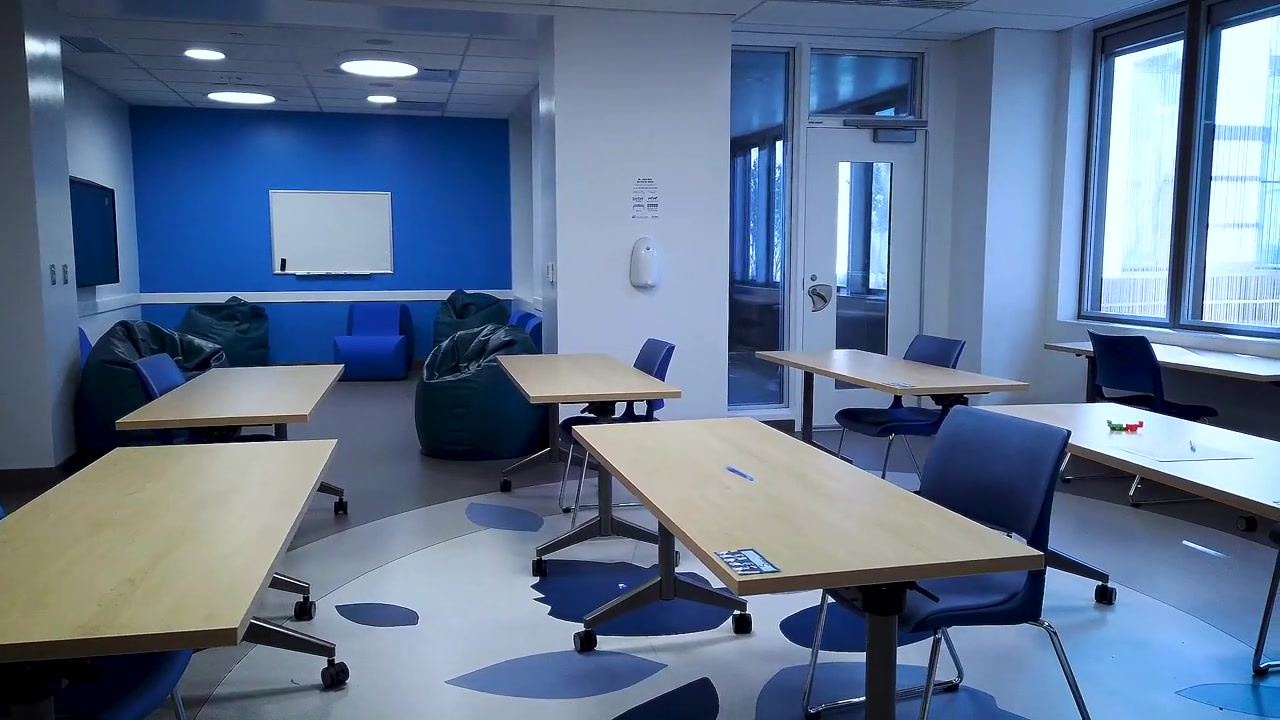TV: (69, 175, 119, 288)
chair: (801, 404, 1093, 720), (1059, 328, 1219, 507), (558, 338, 675, 531), (834, 334, 966, 491), (129, 353, 242, 445), (52, 649, 192, 720), (1252, 551, 1280, 674)
dispenser: (630, 237, 659, 289)
door_handle: (809, 283, 832, 312)
light_switch: (62, 264, 70, 285), (49, 264, 56, 285)
sofa: (76, 319, 241, 462), (414, 323, 547, 461), (175, 296, 270, 368), (334, 301, 413, 381), (432, 289, 510, 350)
table: (571, 417, 1045, 720), (1, 438, 350, 720), (969, 402, 1280, 550), (495, 354, 682, 577), (754, 349, 1031, 495), (115, 364, 348, 515), (1044, 341, 1280, 403)
